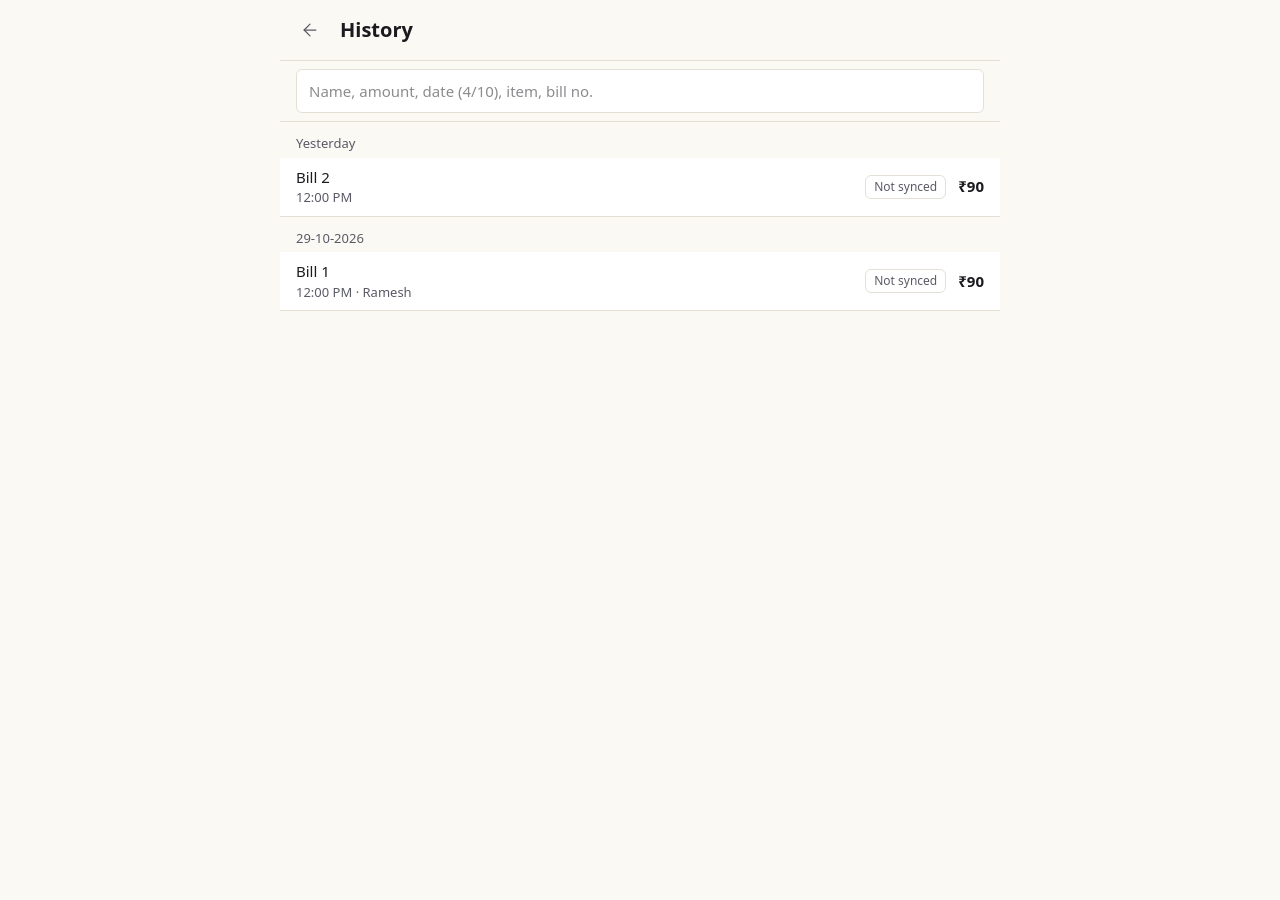
KB-310 - S5 History › search narrows the list, over the last 90 days (with the item names), and says so
The image size is (1280, 900).
Type "besan" into the search field named "Search bills" at (640, 91), box [296,69,984,113]
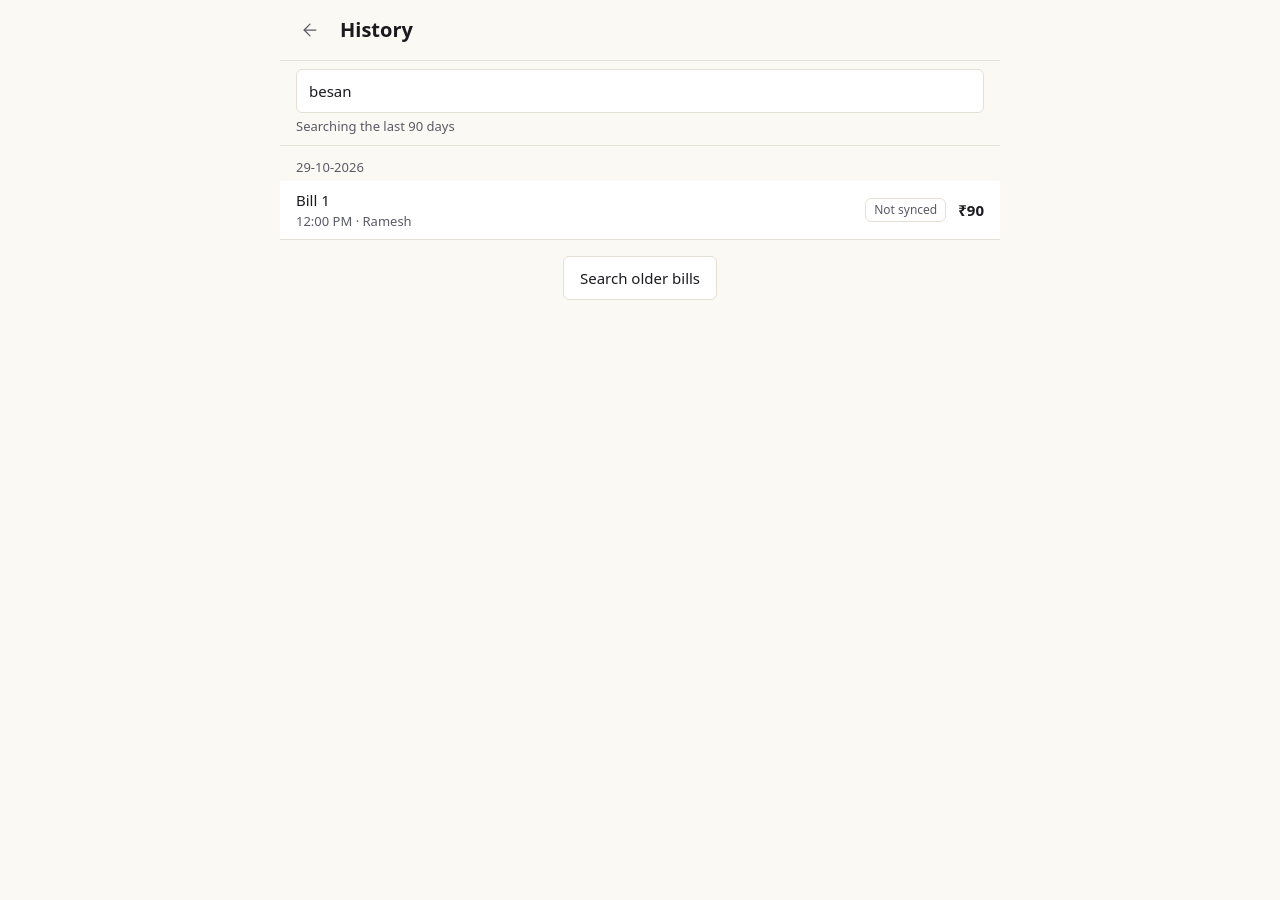
Expected: the button "Bill 1 12:00 PM · Ramesh Not synced ₹90" is shown, [280,181,1000,240]
Expected: the text "Searching the last 90 days" is shown, [296,117,455,135]
